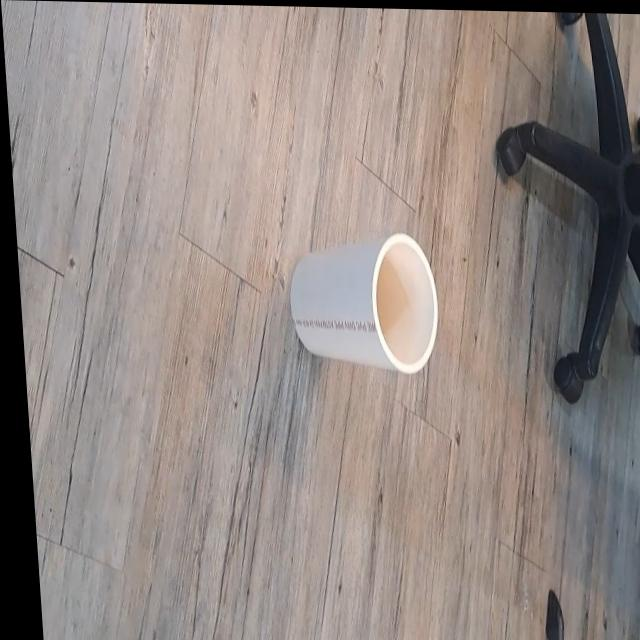CORAL: (276, 222, 450, 388)
